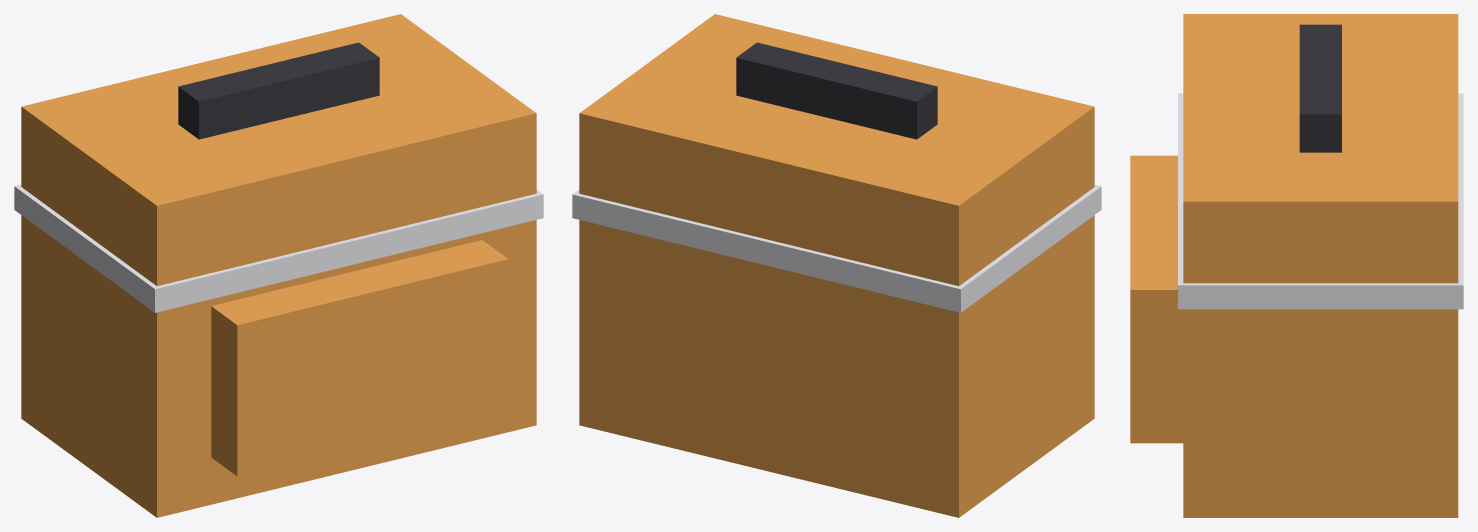
Rendered from emergency_bag.glb.
3 renders of one model, left to right at view 1: azimuth 30°, elevation 25°; view 2: azimuth 150°, elevation 25°; view 3: azimuth 270°, elevation 25°, orthographic.
Visible parts, largest first — view 1: emergency_bag; view 2: emergency_bag; view 3: emergency_bag.
Part boxes in pixels (bbox=[...]): emergency_bag: bbox=[14, 14, 543, 517]; emergency_bag: bbox=[572, 14, 1101, 517]; emergency_bag: bbox=[1130, 14, 1463, 517].
Bounding box in the file's own units: 0.43 × 0.37 × 0.315.
